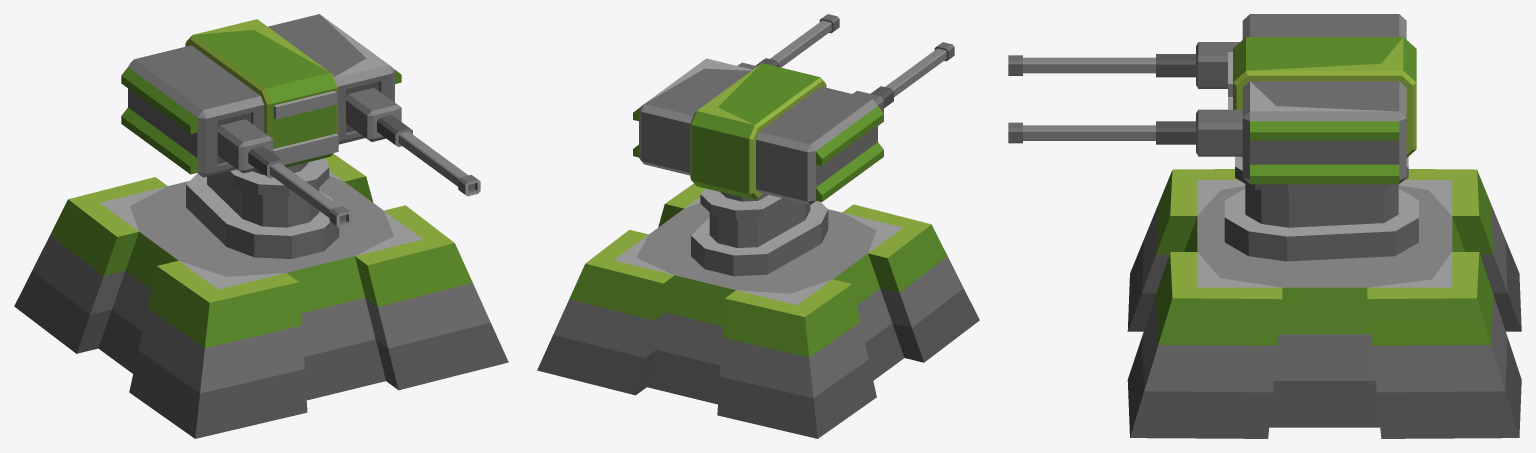
Rendered from tower_rapid_green_1.fbx.
The picture shows the model from 3 angles, left to right: view 1: azimuth 30°, elevation 25°; view 2: azimuth 150°, elevation 25°; view 3: azimuth 270°, elevation 25°; orthographic projection. The views are drawn at different scales.
Parts seen in each view (by area): view 1: tower_rapid_green_1, top_rapid_green_1; view 2: tower_rapid_green_1, top_rapid_green_1; view 3: tower_rapid_green_1, top_rapid_green_1.
Part boxes in pixels (x1,y1,x2,y2): tower_rapid_green_1: (14,153,508,438); top_rapid_green_1: (121,14,480,258); tower_rapid_green_1: (537,183,979,438); top_rapid_green_1: (633,14,954,276); tower_rapid_green_1: (1127,169,1521,438); top_rapid_green_1: (1008,14,1418,261).
Size of the model in its own units: 161 by 136 by 209.
